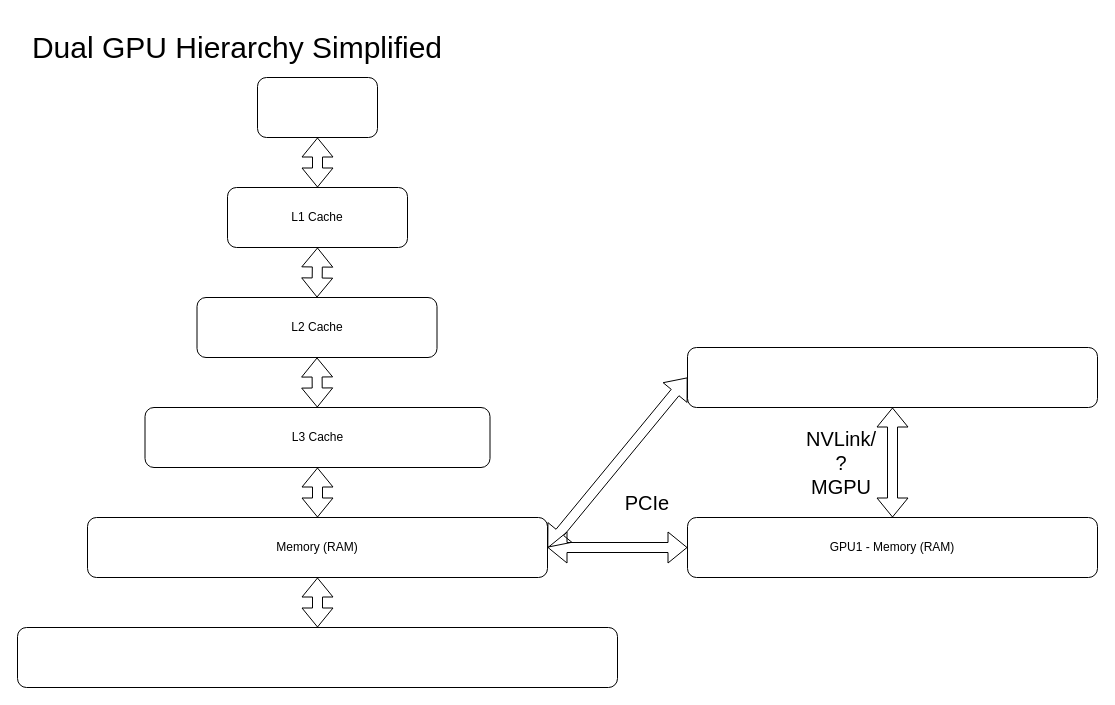
This 1115x705 diagram has some shape labels left out. Each missing label, with the centre of its shape:
GPU0 - Memory (RAM): point (892, 377)
Registers: point (317, 107)
Storage (HDD, SSD, NVMe): point (317, 657)
